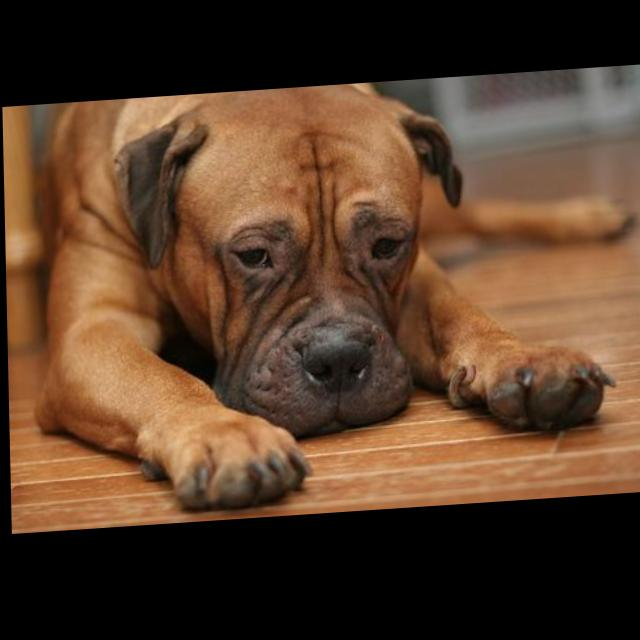bullmastiff: (26, 74, 640, 524)
